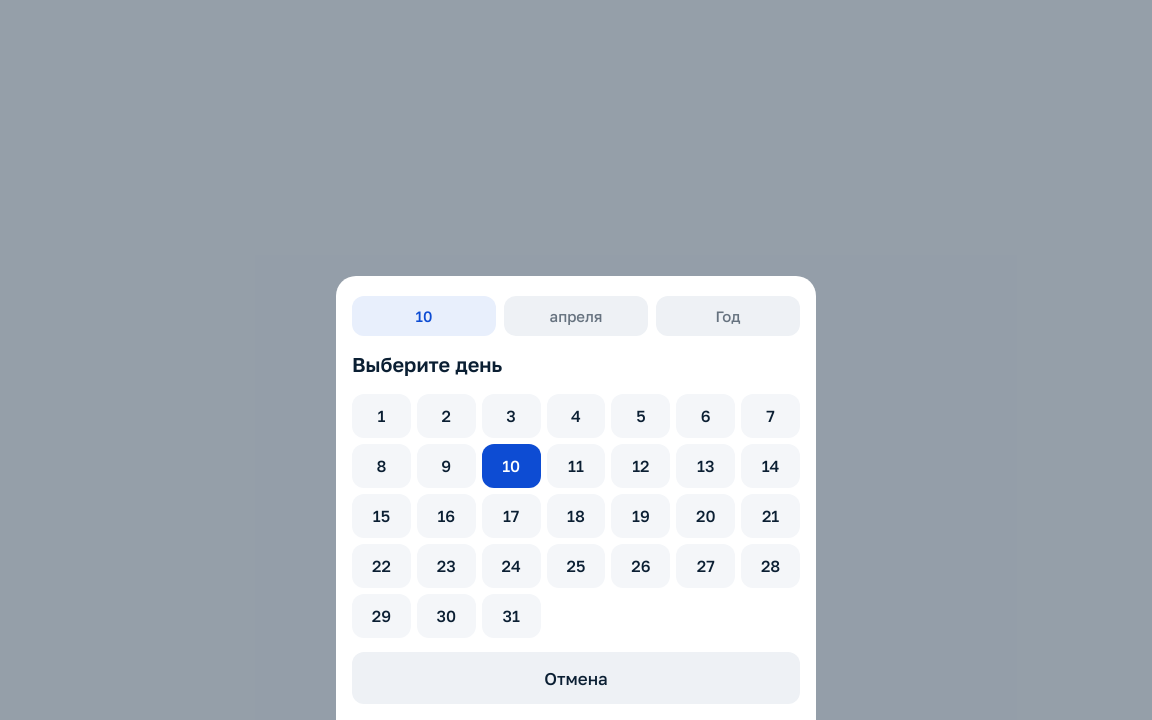
Test: BirthdayPicker › если выбрали 31-е после апреля, месяц сбрасывается
The image size is (1152, 720).
Click the button "31".
click(511, 616)  # box left=482, top=594, right=541, bottom=638
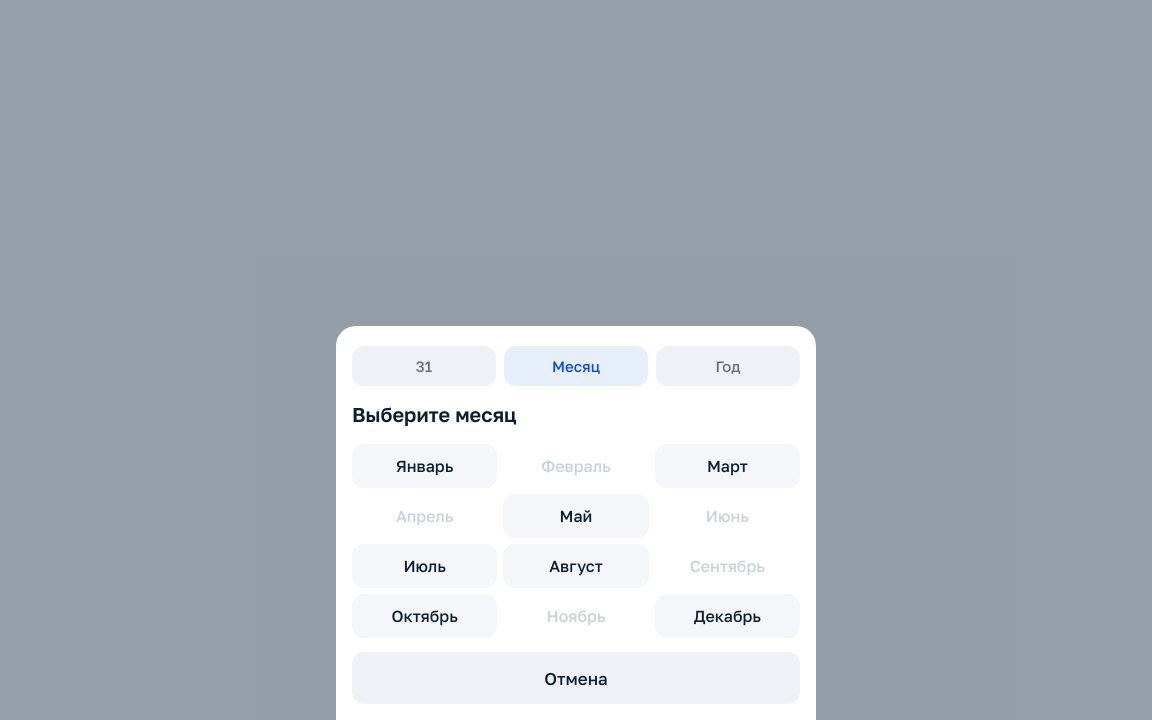
Expected: the button "Месяц" is shown, left=504, top=346, right=648, bottom=386
Expected: the button "Апрель" is disabled, left=352, top=494, right=497, bottom=538
